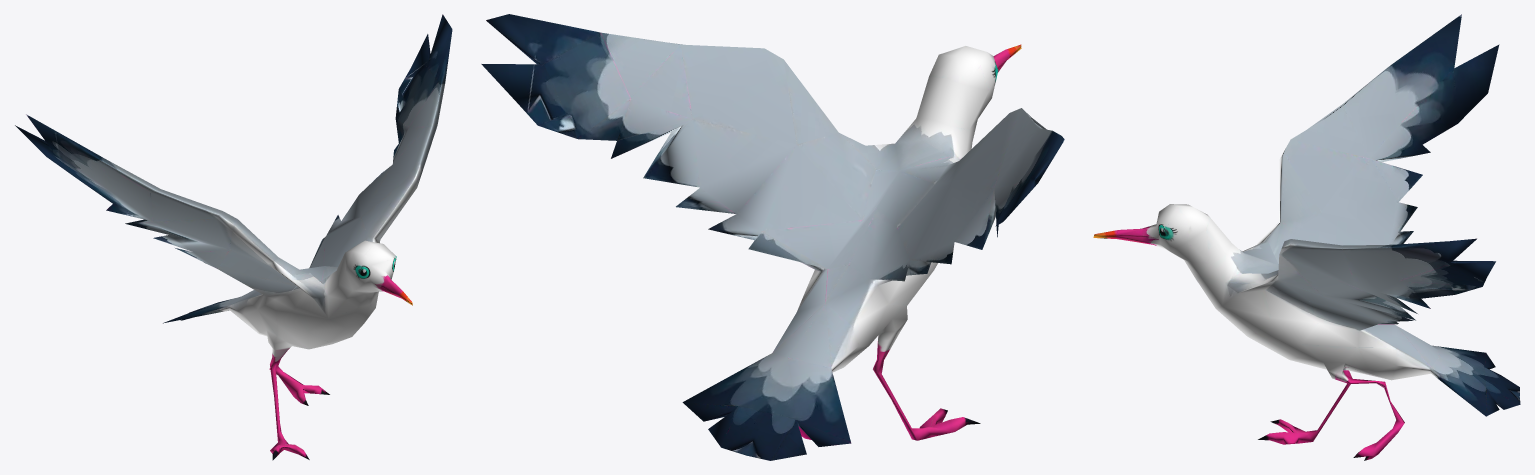
The model's file is seagull.glb.
The picture shows the model from 3 angles, left to right: view 1: azimuth 30°, elevation 25°; view 2: azimuth 150°, elevation 25°; view 3: azimuth 270°, elevation 25°; orthographic projection. The views are drawn at different scales.
Bounding box in the file's own units: 1 × 0.726 × 0.8391.
Materials: 1 (1 with a texture image).
